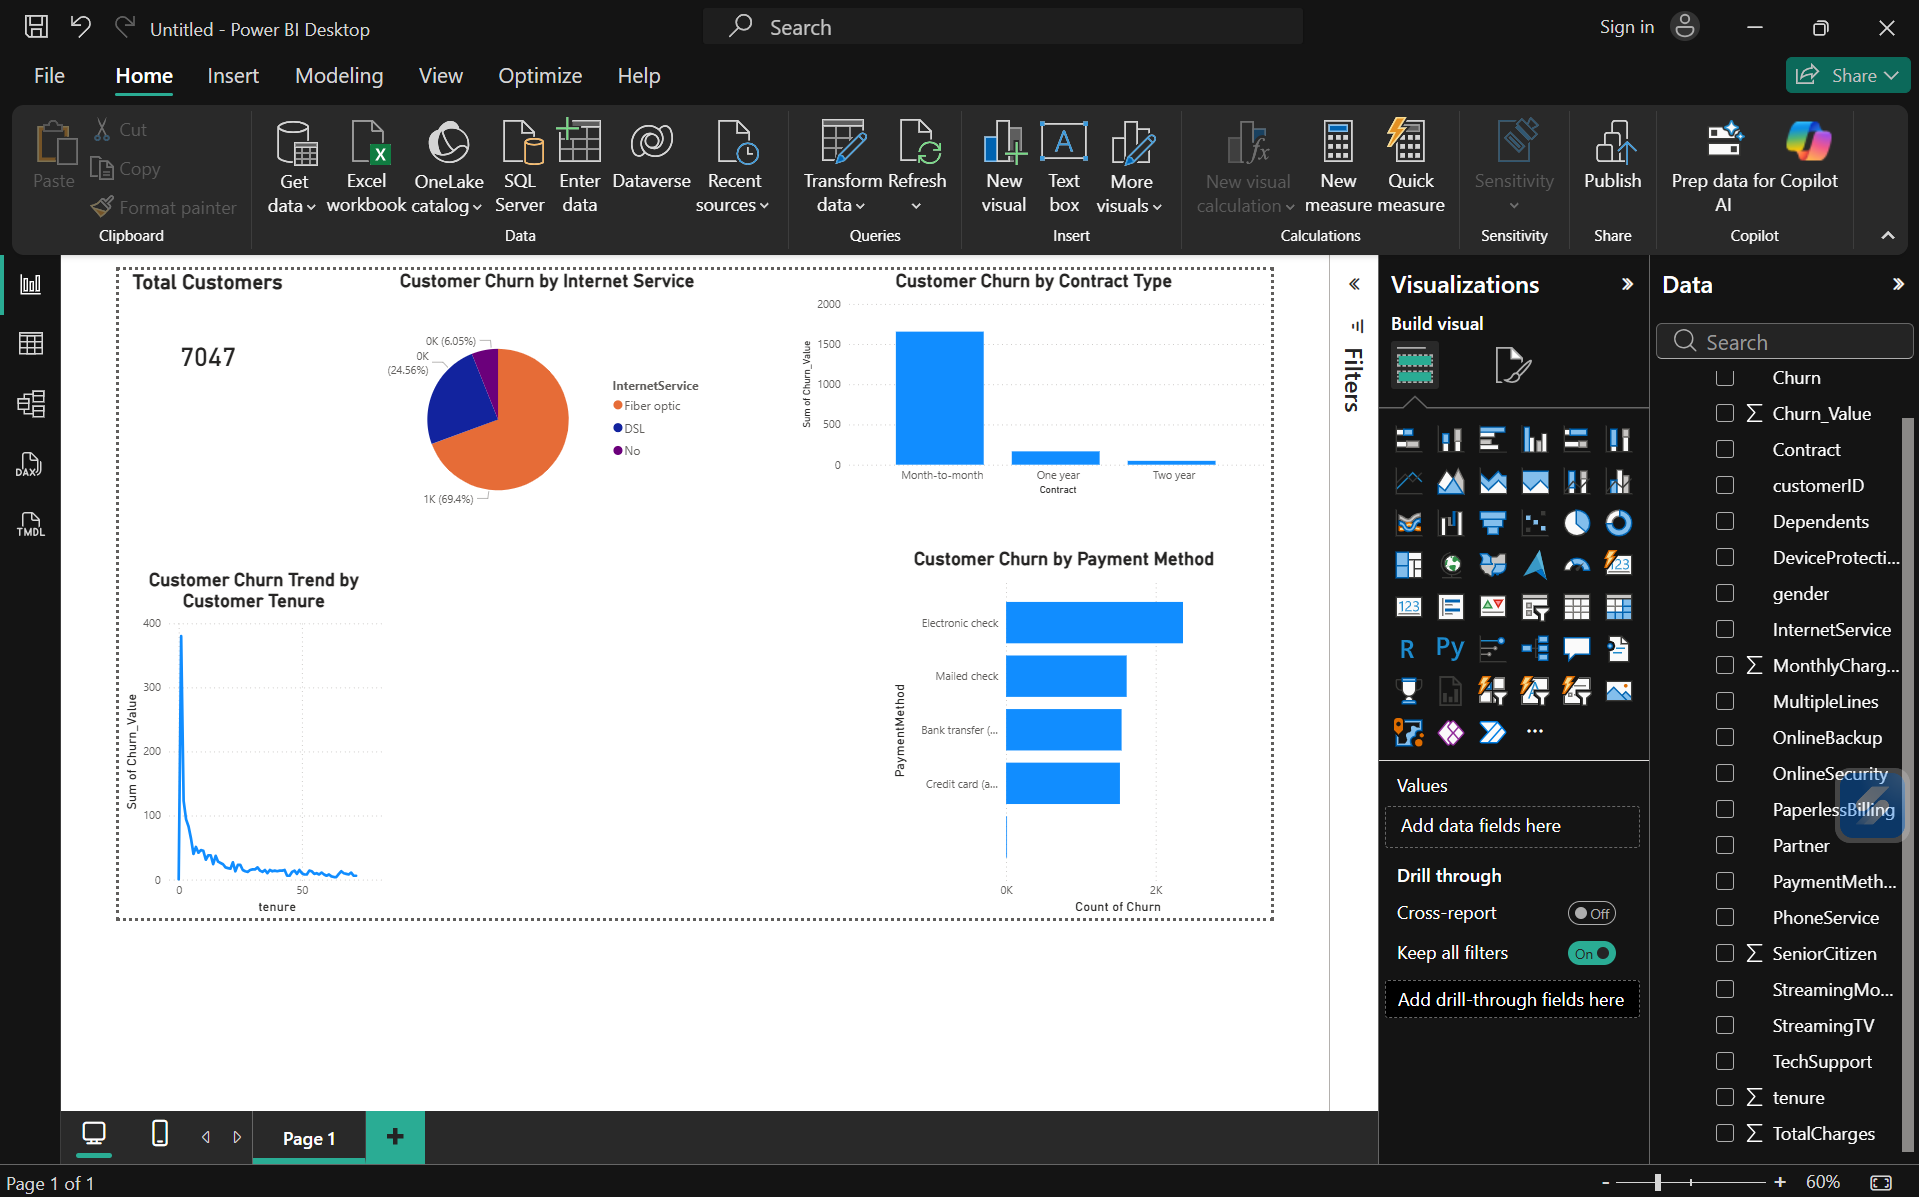

The page's visual inventory and layout, read from the dashboard file:
{"tool":"powerbi","page":{"name":"Page 1","canvas":[1280,720],"ordinal":0},"visuals":[{"type":"card","title":"Total Customers","fields":{"Values":["Count(customer_churn_analysis.customerID)"]},"box":[0,0,196.7,161.7],"z":0},{"type":"clusteredColumnChart","title":"Customer Churn by Contract Type","fields":{"Category":["customer_churn_analysis.Contract"],"Y":["Sum(customer_churn_analysis.Churn_Value)"]},"box":[753.3,0,526.7,255],"z":1},{"type":"pieChart","title":"Customer Churn by Internet Service","fields":{"Category":["customer_churn_analysis.InternetService"],"Y":["Sum(customer_churn_analysis.Churn_Value)"]},"box":[288.3,0,375,308.3],"z":2},{"type":"clusteredBarChart","title":"Customer Churn by Payment Method","fields":{"Category":["customer_churn_analysis.PaymentMethod"],"Y":["CountNonNull(customer_churn_analysis.Churn)"]},"box":[853.3,308.3,393.3,411.7],"z":3},{"type":"lineChart","title":"Customer Churn Trend by Customer Tenure","fields":{"Category":["customer_churn_analysis.tenure"],"Y":["Sum(customer_churn_analysis.Churn_Value)"]},"box":[0,331.7,300,388.3],"z":4}]}

Visuals, with their boxes on the page's 1280x720 design canvas (x1, y1, x2, y2). These are canvas units, not pixel positions in the 1919x1197 screenshot, which may show the page scaled, cropped or inside an application window:
"Total Customers" card: bbox=(0, 0, 197, 162)
"Customer Churn by Contract Type" clusteredColumnChart: bbox=(753, 0, 1280, 255)
"Customer Churn by Internet Service" pieChart: bbox=(288, 0, 663, 308)
"Customer Churn by Payment Method" clusteredBarChart: bbox=(853, 308, 1247, 720)
"Customer Churn Trend by Customer Tenure" lineChart: bbox=(0, 332, 300, 720)
